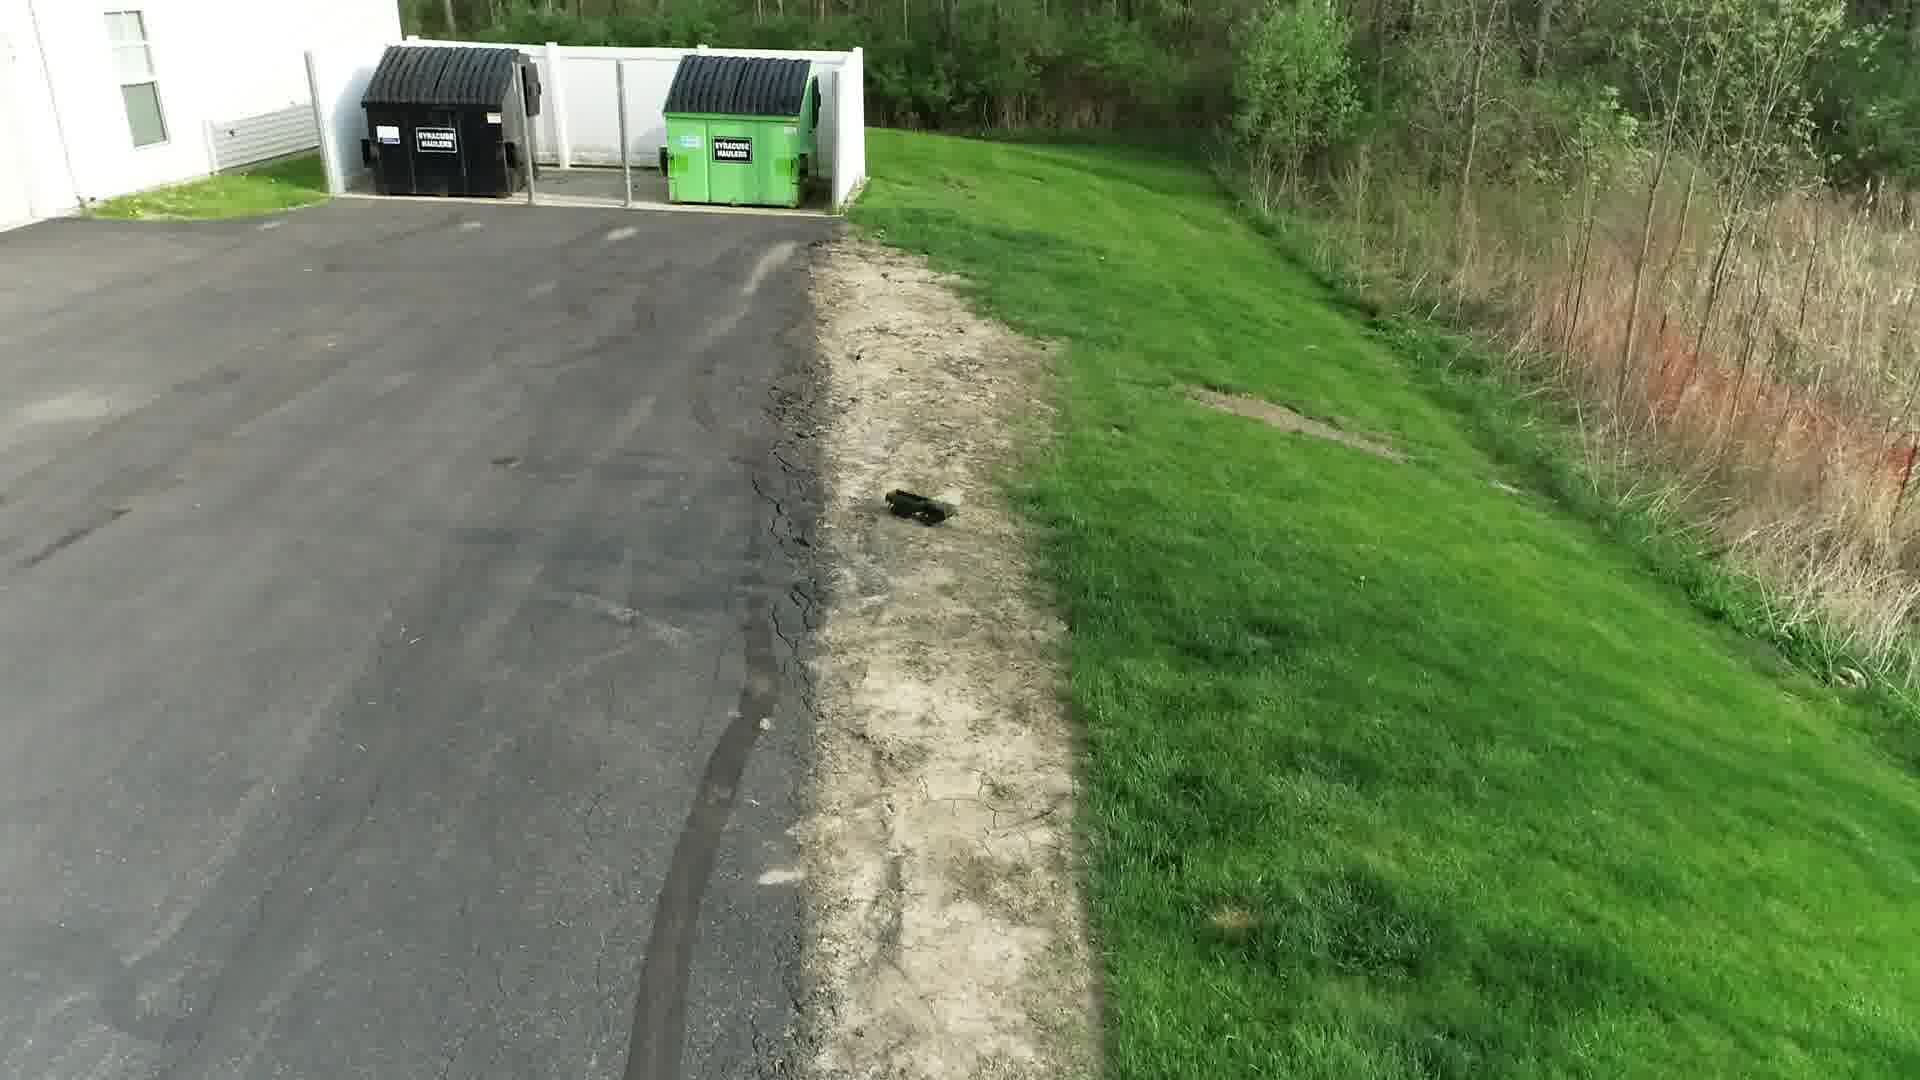transporter9: (884, 487, 960, 527)
